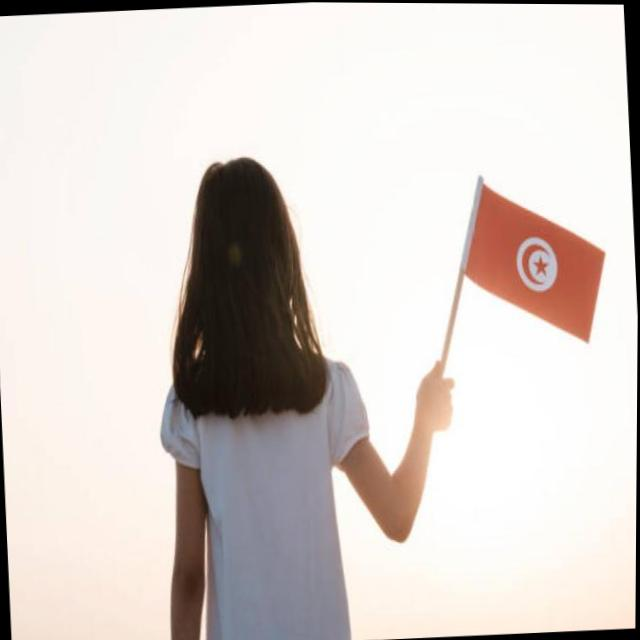no helmet: (178, 143, 301, 356)
